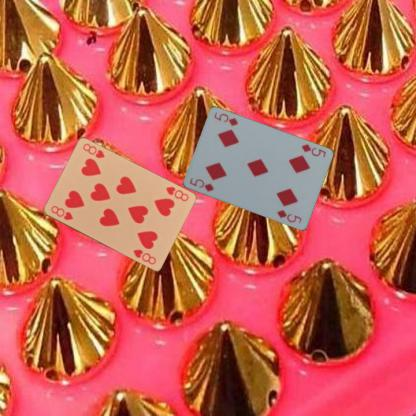5d: (187, 175, 215, 193), (299, 142, 327, 160)
8h: (163, 184, 189, 203), (48, 203, 74, 221)
